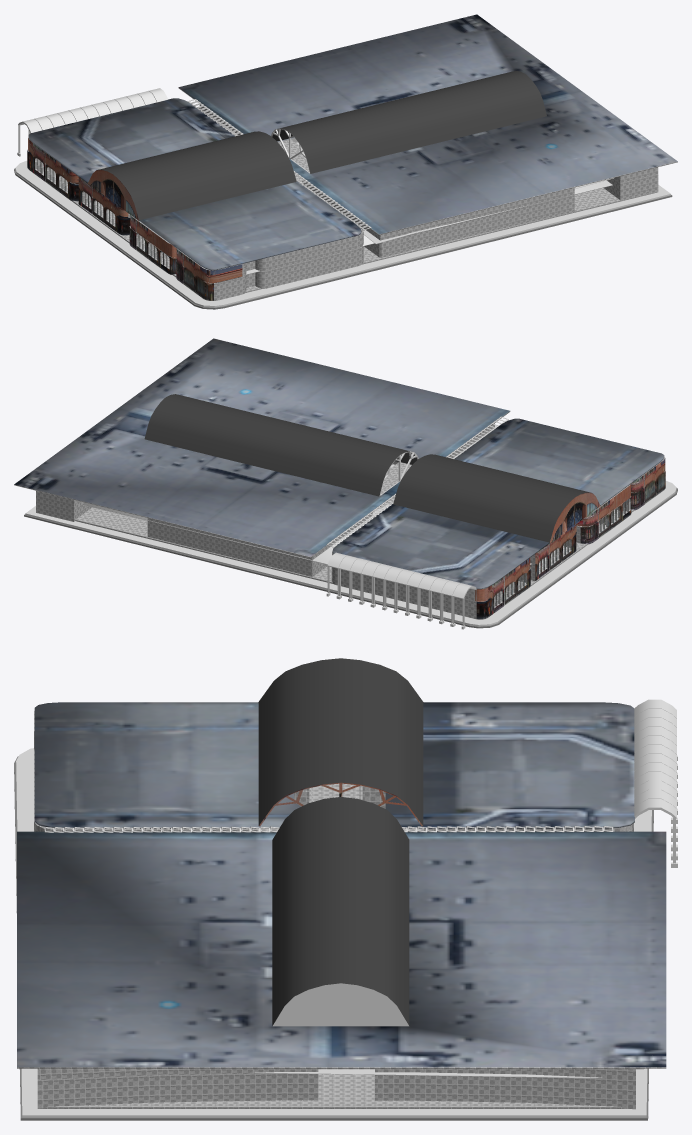
Rendered from kauppakeskus duo4.fbx.
3 views of the same model, one above another, from view 1: azimuth 30°, elevation 25°; view 2: azimuth 150°, elevation 25°; view 3: azimuth 270°, elevation 25° (orthographic). The views are drawn at different scales.
Parts seen in each view (by area): view 1: Cube, katto, Cylinder.002, Cylinder.001, Plane, lattia, ker2, Plane.004, Plane.002, Plane.003; view 2: Cube, katto, Cylinder.002, Cylinder.001, Plane, lattia, Plane.004, ker2, Plane.002, Plane.003; view 3: Cube, katto, Cylinder.002, Cylinder.001, lattia, Plane, Plane.004, ker2, Plane.002, Cube.001.
Part boxes in pixels (bbox=[...]): Cube: bbox=[178, 14, 677, 234]; katto: bbox=[28, 98, 361, 270]; Cylinder.002: bbox=[271, 70, 546, 173]; Cylinder.001: bbox=[88, 131, 309, 221]; Plane: bbox=[27, 149, 658, 300]; lattia: bbox=[14, 160, 672, 309]; ker2: bbox=[28, 104, 658, 283]; Plane.004: bbox=[17, 88, 167, 156]; Plane.002: bbox=[188, 99, 371, 230]; Plane.003: bbox=[198, 108, 612, 274]; Cube: bbox=[14, 338, 510, 557]; katto: bbox=[332, 418, 664, 589]; Cylinder.002: bbox=[144, 394, 418, 496]; Cylinder.001: bbox=[380, 454, 600, 543]; Plane: bbox=[36, 470, 665, 619]; lattia: bbox=[24, 481, 677, 628]; Plane.004: bbox=[326, 552, 476, 629]; ker2: bbox=[147, 423, 665, 601]; Plane.002: bbox=[326, 416, 508, 547]; Plane.003: bbox=[83, 503, 581, 564]; Cube: bbox=[17, 831, 666, 1069]; katto: bbox=[34, 702, 634, 828]; Cylinder.002: bbox=[272, 797, 409, 1026]; Cylinder.001: bbox=[257, 658, 424, 831]; lattia: bbox=[14, 748, 653, 1120]; Plane: bbox=[37, 788, 635, 1109]; Plane.004: bbox=[634, 699, 677, 867]; ker2: bbox=[34, 711, 633, 1079]; Plane.002: bbox=[44, 826, 613, 832]; Cube.001: bbox=[250, 1069, 602, 1078].
Bounding box in the file's own units: 37030 × 4613 × 27755.
